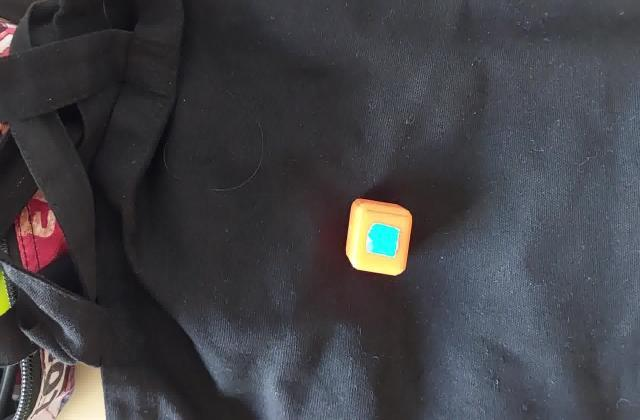blue: (372, 228, 396, 252)
sticker: (341, 197, 416, 280)
